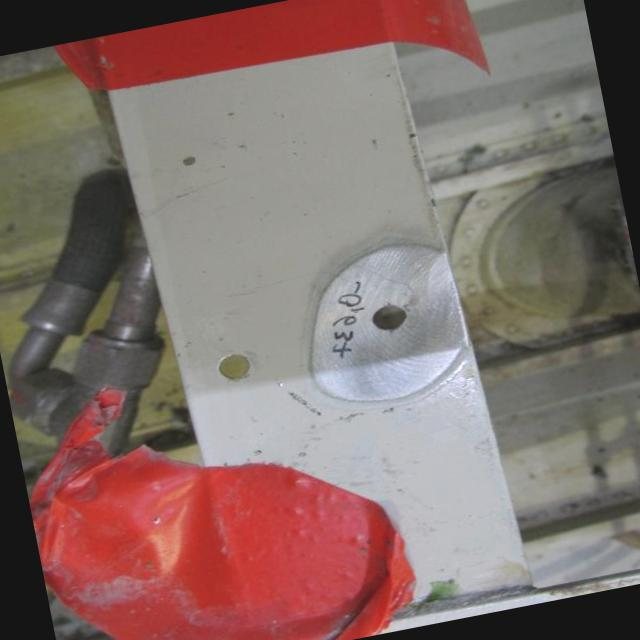Missing Fastener: (350, 290, 430, 348), (202, 340, 264, 390)
